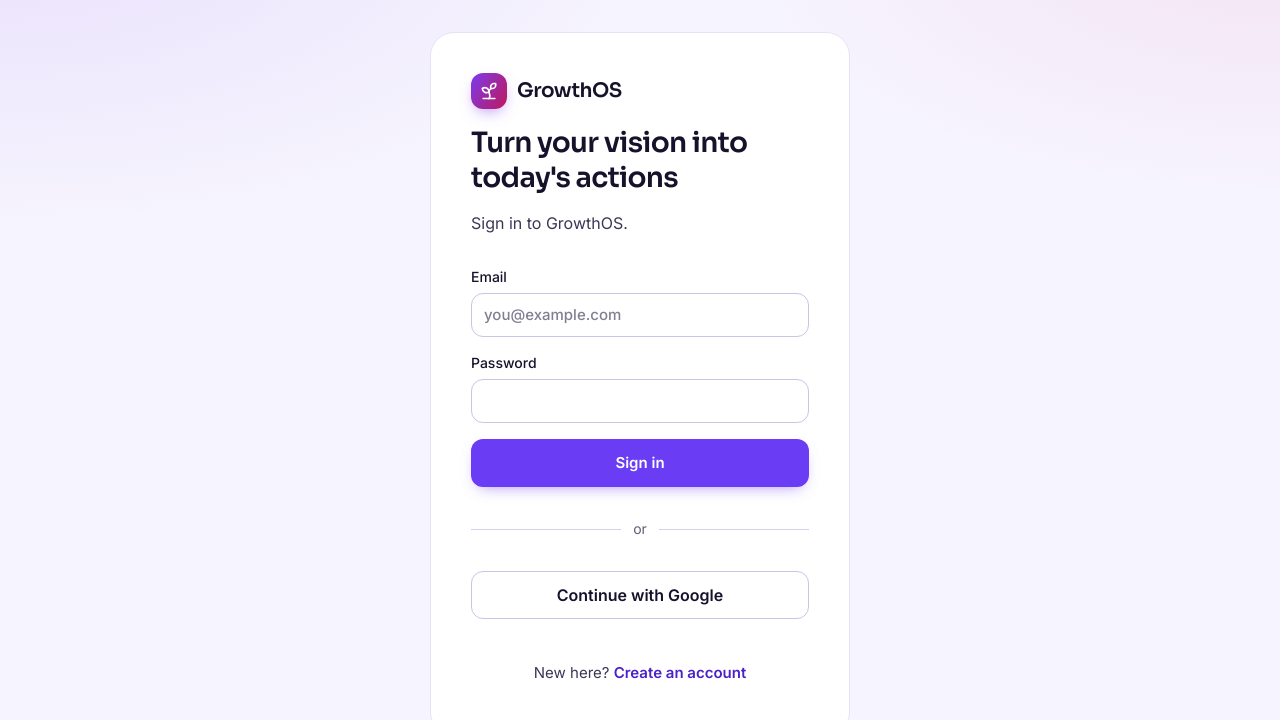
Test: routing and sign-in › shows a clear message for wrong credentials
Type "me@example.com" into the field labelled "Email".
click(640, 315); type("me@example.com")  # box [471,293,809,337]
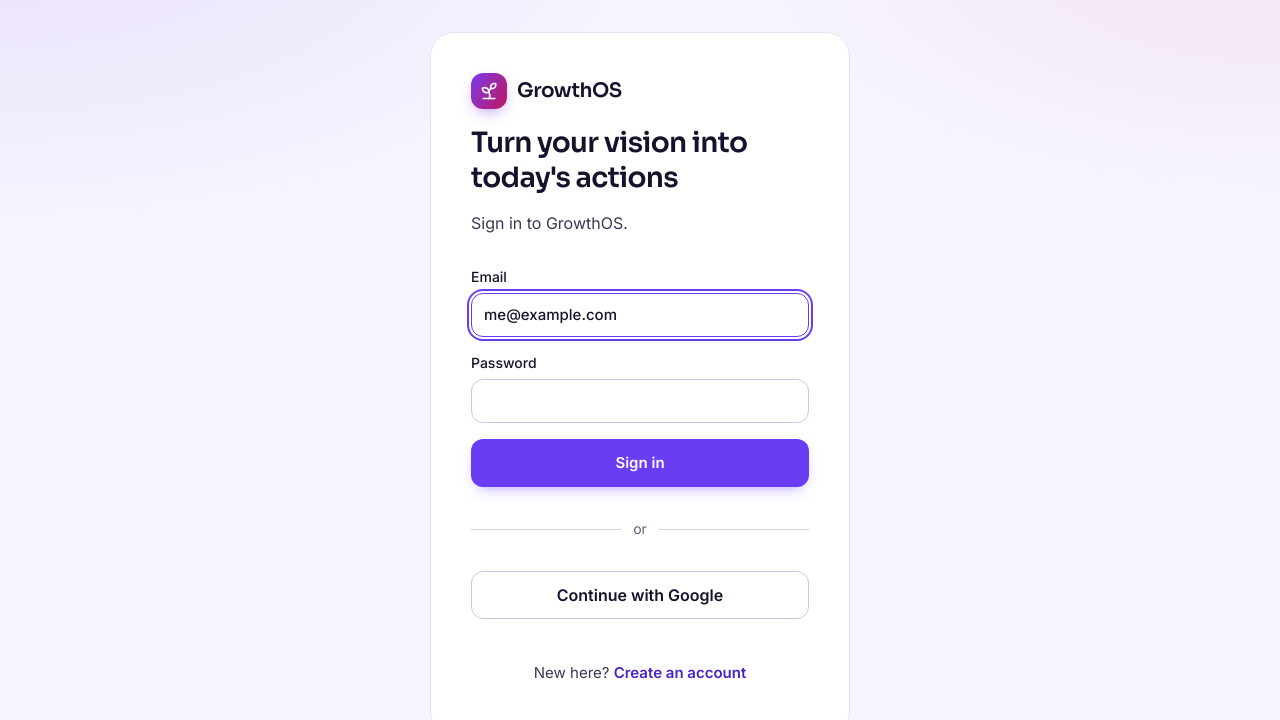
Type "wrong-password" into the password field labelled "Password".
click(640, 401); type("wrong-password")  # box [471,379,809,423]
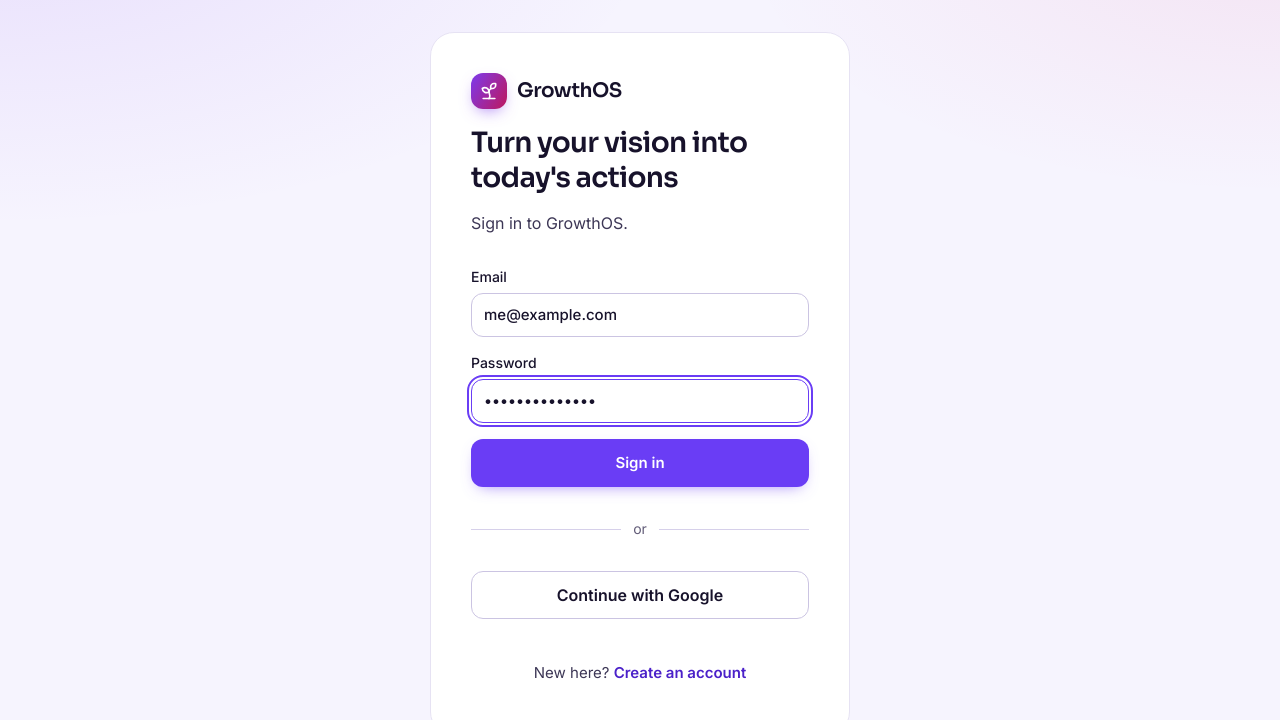
Click the button "Sign in".
click(640, 463)  # box [471,439,809,487]
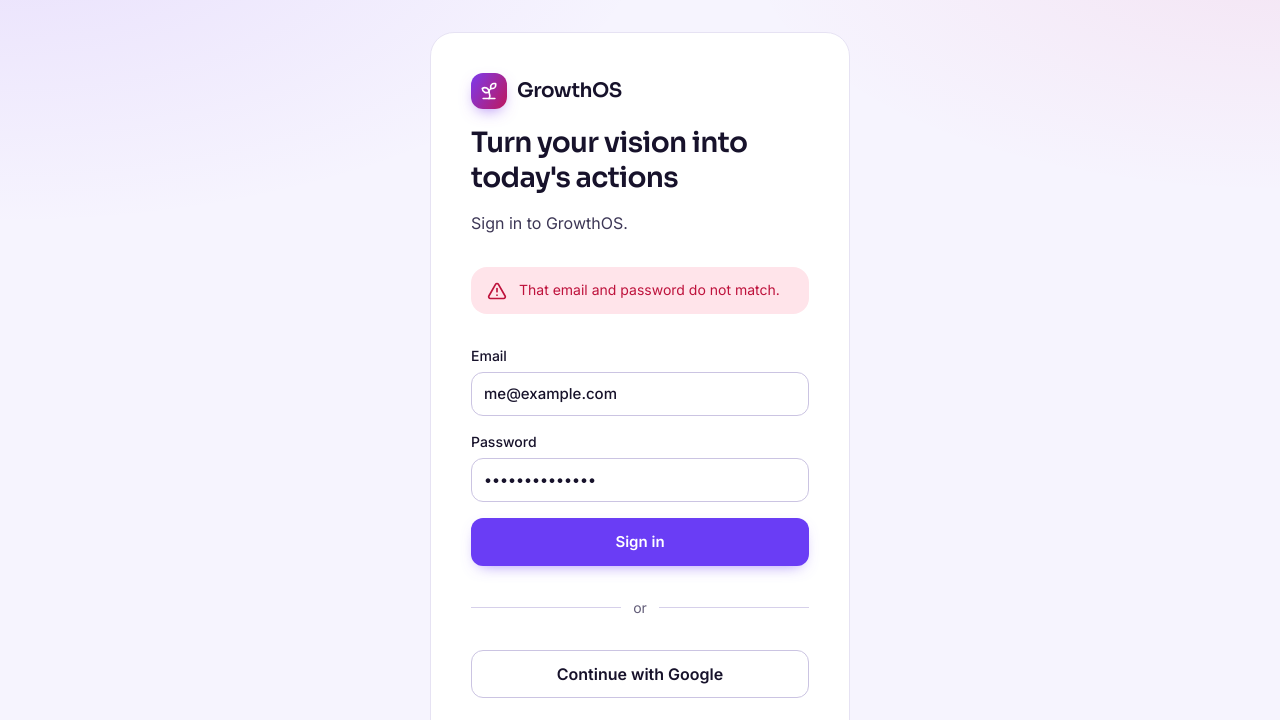
Expected: the message reads "That email and password do not match.", [519,281,780,298]
